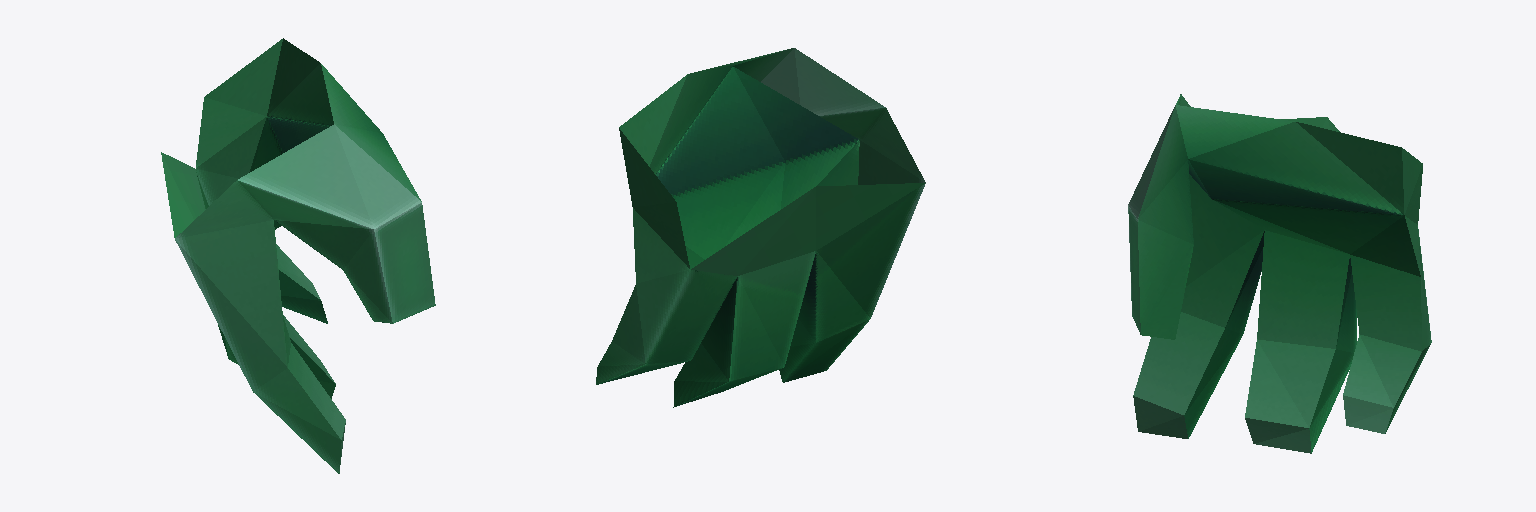
3 views of the same model, side by side, from view 1: azimuth 30°, elevation 25°; view 2: azimuth 150°, elevation 25°; view 3: azimuth 270°, elevation 25° (orthographic).
Parts seen in each view (by area): view 1: ManoIzq; view 2: ManoIzq; view 3: ManoIzq.
Boxes of the visible parts, <box> form: ManoIzq: <box>161,38,435,473</box>; ManoIzq: <box>596,48,925,407</box>; ManoIzq: <box>1128,94,1431,453</box>.
Bounding box in the file's own units: 1.1 × 1.49 × 1.2.
1 materials, 1 textured.